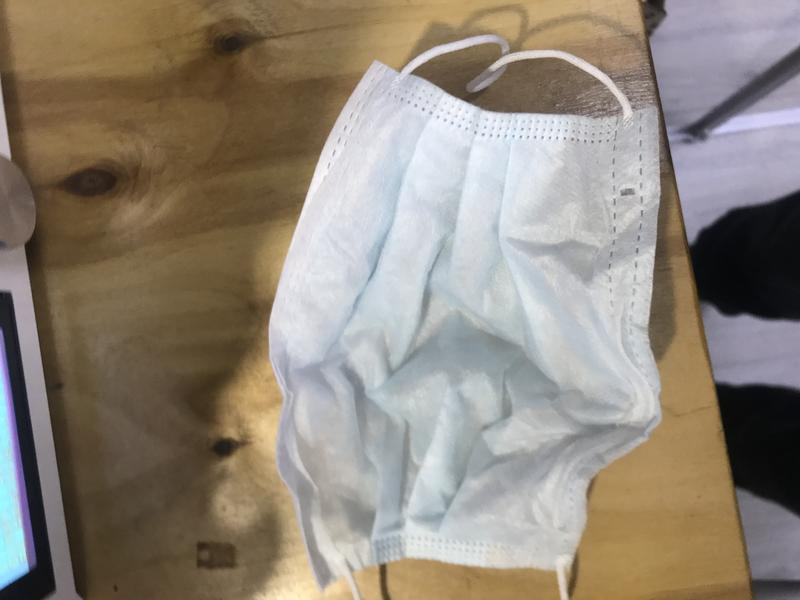medical_mask: (265, 34, 664, 600)
